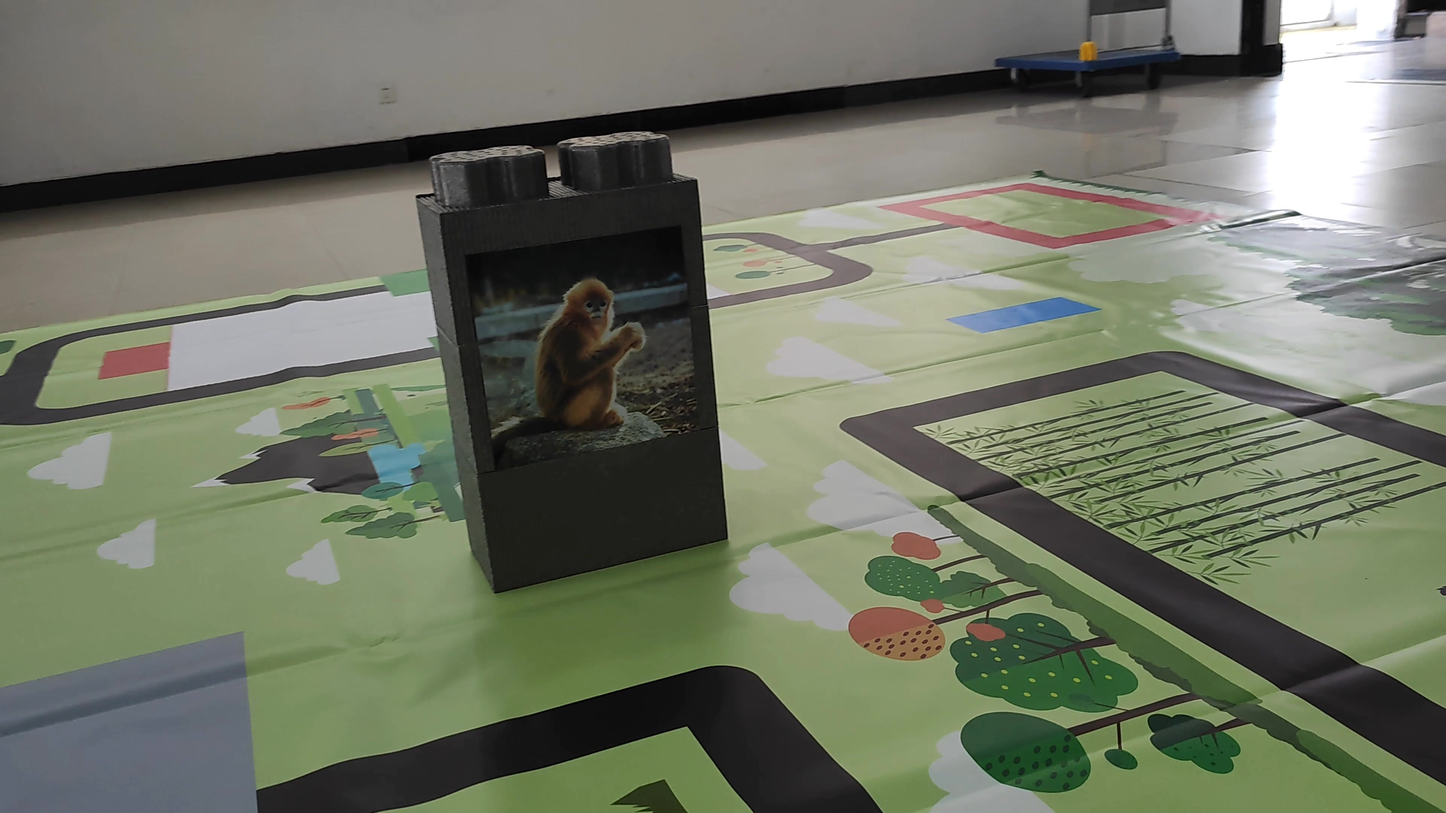monkey: (486, 259, 664, 458)
